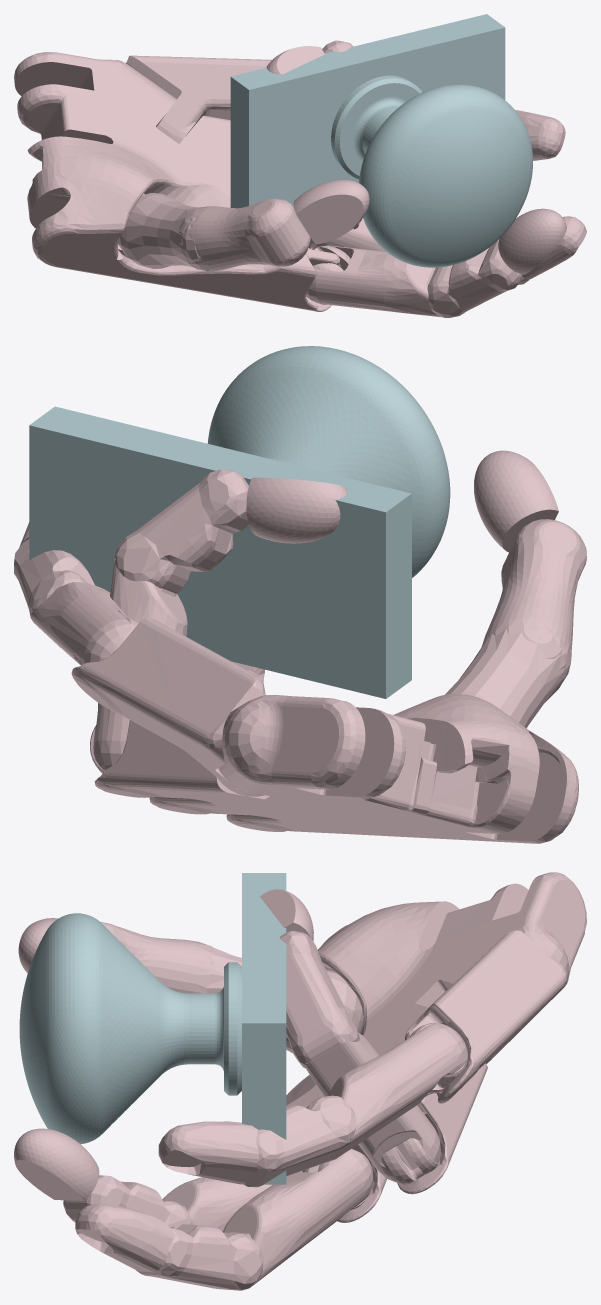
Rendered from grasp_9.glb.
3 views of the same model, one above another, from view 1: azimuth 30°, elevation 25°; view 2: azimuth 150°, elevation 25°; view 3: azimuth 270°, elevation 25° (orthographic). The views are drawn at different scales.
Parts seen in each view (by area): view 1: world; view 2: world; view 3: world.
Boxes of the visible parts, x1=… form: world: x1=14, y1=14, x2=586, y2=317; world: x1=14, y1=346, x2=586, y2=843; world: x1=14, y1=872, x2=586, y2=1290.
Bounding box in the file's own units: 0.1776 × 0.1017 × 0.1611.
